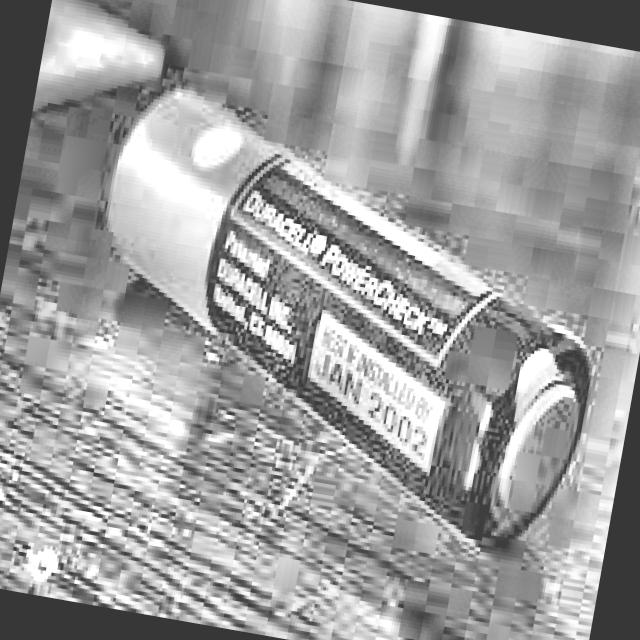Battery: (65, 84, 627, 561)
